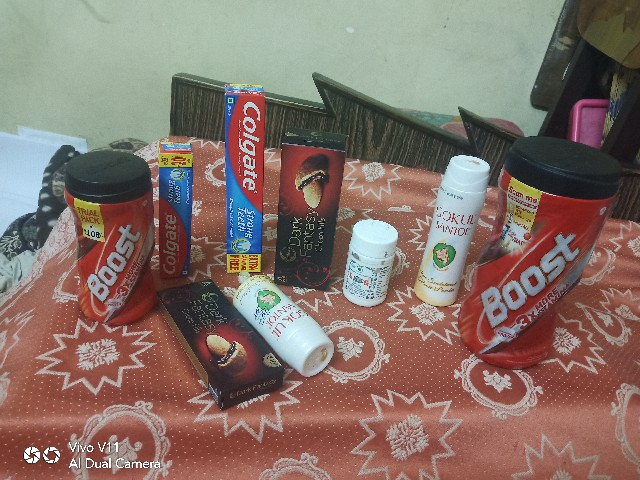boost big: (460, 134, 624, 407)
boost small: (50, 143, 156, 334)
colgatetoothpaste big: (214, 67, 266, 274)
colgatetoothpaste small: (154, 142, 199, 280)
darkfantasy big: (272, 133, 351, 286)
darkfantasy small: (149, 279, 279, 424)
gokulsantol big: (399, 145, 491, 315)
gokulsantol small: (233, 273, 346, 374)
lgasafoetidapowder small: (344, 216, 406, 329)
